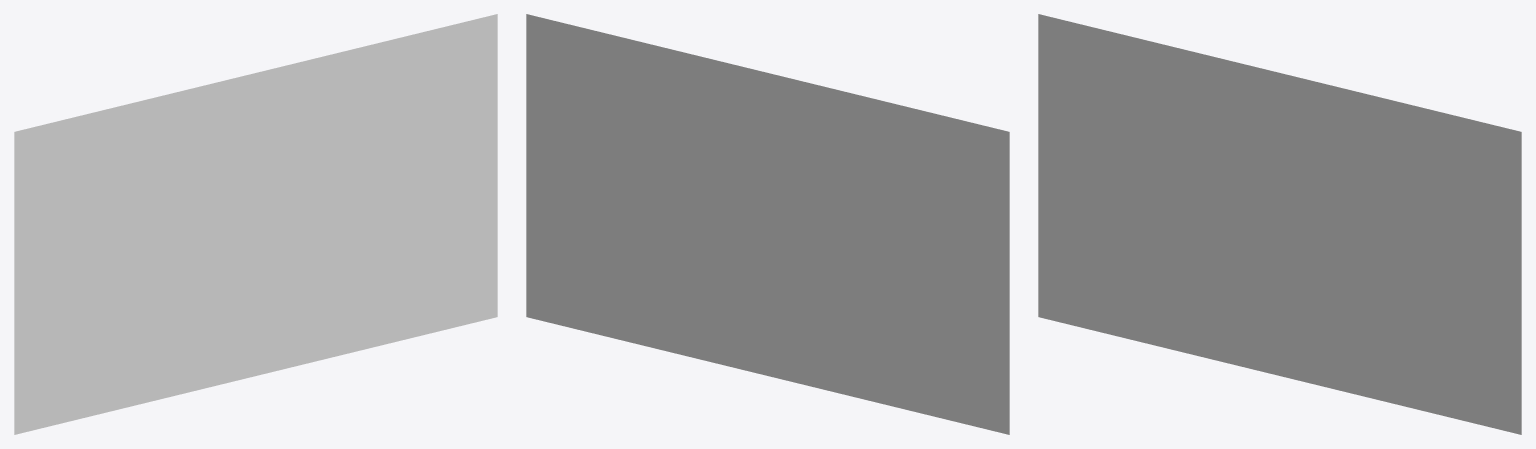
Rendered from uwu.fbx.
3 renders of one model, left to right at view 1: azimuth 30°, elevation 25°; view 2: azimuth 150°, elevation 25°; view 3: azimuth 330°, elevation 25°, orthographic.
Visible parts, largest first — view 1: pPlane1; view 2: pPlane1; view 3: pPlane1.
Part boxes in pixels (left/top/right/bottom): pPlane1: left=14, top=14, right=497, bottom=434; pPlane1: left=526, top=14, right=1009, bottom=434; pPlane1: left=1038, top=14, right=1521, bottom=434.
Bounding box in the file's own units: 12.16 × 7.29 × 1.51e-15.
Materials: 1 (1 with a texture image).
